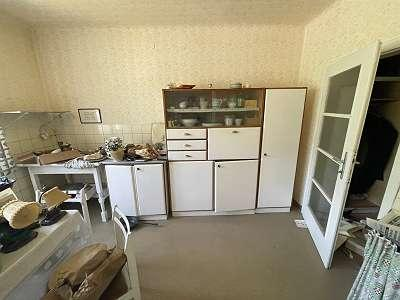cabinet_door: (262, 89, 296, 207), (214, 161, 258, 209), (170, 163, 212, 210), (208, 129, 260, 159), (207, 128, 258, 158), (137, 163, 163, 216), (110, 166, 135, 216), (168, 129, 205, 139), (169, 140, 205, 150), (170, 152, 206, 161)
handle: (262, 150, 271, 158), (230, 129, 240, 136), (183, 131, 191, 137), (184, 153, 192, 158), (183, 143, 191, 148), (216, 164, 223, 169), (135, 167, 142, 172)
